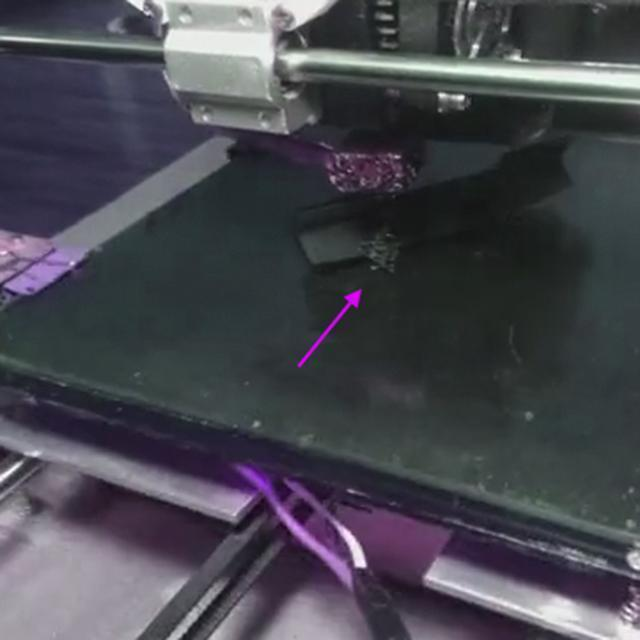spaghetti: (357, 227, 404, 275)
